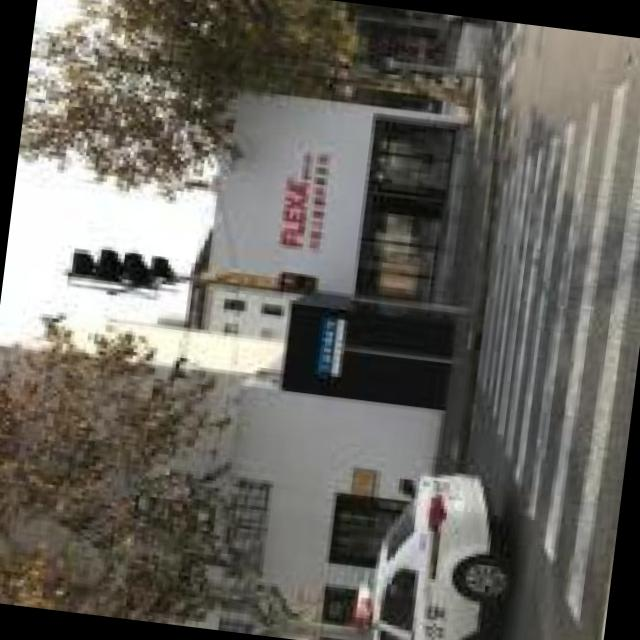zebra: (458, 66, 640, 640)
